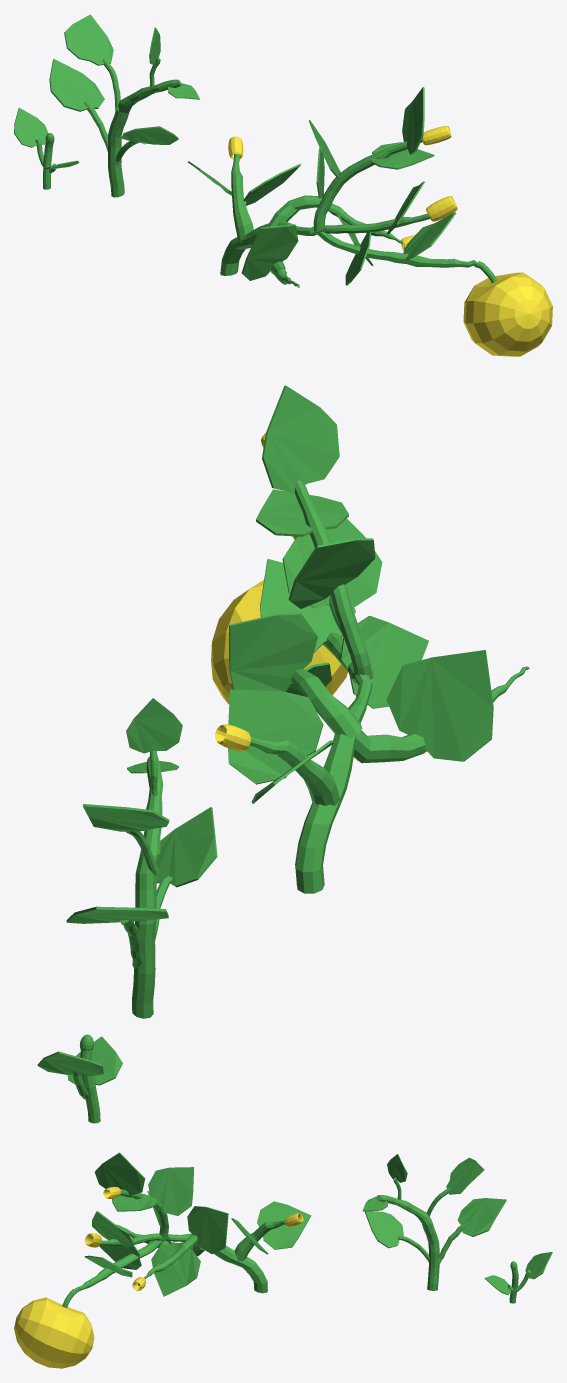
The model's file is SquashPlant.fbx.
3 views of the same model, one above another, from view 1: azimuth 30°, elevation 25°; view 2: azimuth 150°, elevation 25°; view 3: azimuth 270°, elevation 25° (orthographic). The views are drawn at different scales.
Visible parts, largest first — view 1: mesh_1355922537, group_663697413, group_1574200674, group_1911999367, group_661869520, group_1180536139, group_785874737, group_1875347190, group_217850834, group_901066644, group_1884410177, group_1379785581 (+8 smaller); view 2: group_663697413, group_793217682, group_901066644, group_2134073980, group_217850834, group_1574200674, group_1721686718, group_508608229, group_1074385398, mesh_1355922537, group_785874737, group_989917077 (+10 smaller); view 3: mesh_1355922537, group_508608229, group_504966614, group_2134073980, group_1532674162, group_901066644, group_1574200674, group_1911999367, group_217850834, group_1074385398, group_661869520, group_1180536139 (+13 smaller).
Part boxes in pixels (<box>): mesh_1355922537: <box>463,272,552,356</box>; group_663697413: <box>241,224,298,280</box>; group_1574200674: <box>108,79,181,197</box>; group_1911999367: <box>49,59,104,111</box>; group_661869520: <box>64,14,113,65</box>; group_1180536139: <box>315,232,477,267</box>; group_785874737: <box>313,139,422,231</box>; group_1875347190: <box>267,195,402,243</box>; group_217850834: <box>220,221,316,275</box>; group_901066644: <box>402,87,424,154</box>; group_1884410177: <box>231,154,253,242</box>; group_1379785581: <box>14,107,47,147</box>; group_663697413: <box>386,650,493,761</box>; group_793217682: <box>228,689,323,784</box>; group_901066644: <box>262,385,339,492</box>; group_2134073980: <box>229,613,317,691</box>; group_217850834: <box>295,674,372,893</box>; group_1574200674: <box>132,755,163,1018</box>; group_1721686718: <box>340,616,428,708</box>; group_508608229: <box>288,538,375,608</box>; group_1074385398: <box>156,807,217,887</box>; mesh_1355922537: <box>211,579,347,704</box>; group_785874737: <box>295,480,371,677</box>; group_989917077: <box>282,518,382,608</box>; mesh_1355922537: <box>14,1297,94,1368</box>; group_508608229: <box>148,1167,194,1215</box>; group_504966614: <box>151,1243,200,1296</box>; group_2134073980: <box>187,1206,228,1253</box>; group_1532674162: <box>257,1201,311,1249</box>; group_901066644: <box>94,1152,145,1195</box>; group_1574200674: <box>376,1195,439,1290</box>; group_1911999367: <box>457,1198,506,1236</box>; group_217850834: <box>165,1233,267,1293</box>; group_1074385398: <box>364,1211,403,1248</box>; group_661869520: <box>446,1157,484,1194</box>; group_1180536139: <box>75,1240,163,1292</box>.
Size of the model in its own units: 91.1 by 92.53 by 227.
